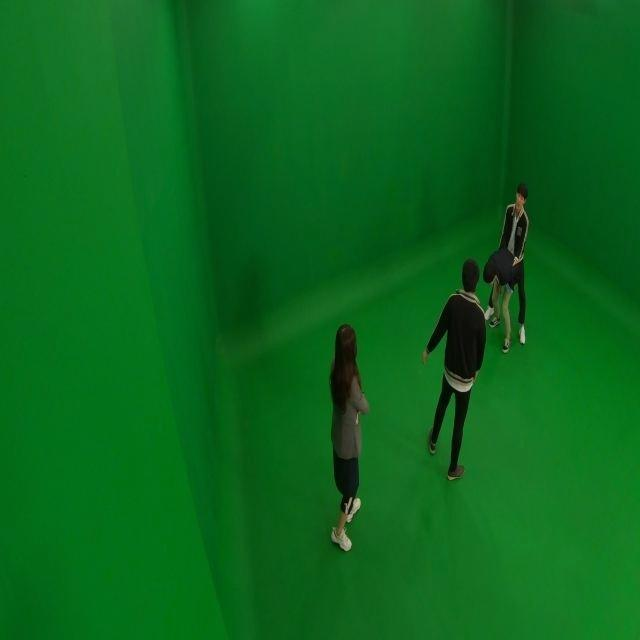fight: (478, 182, 530, 353)
non-fight: (420, 259, 490, 482), (325, 321, 372, 552)
